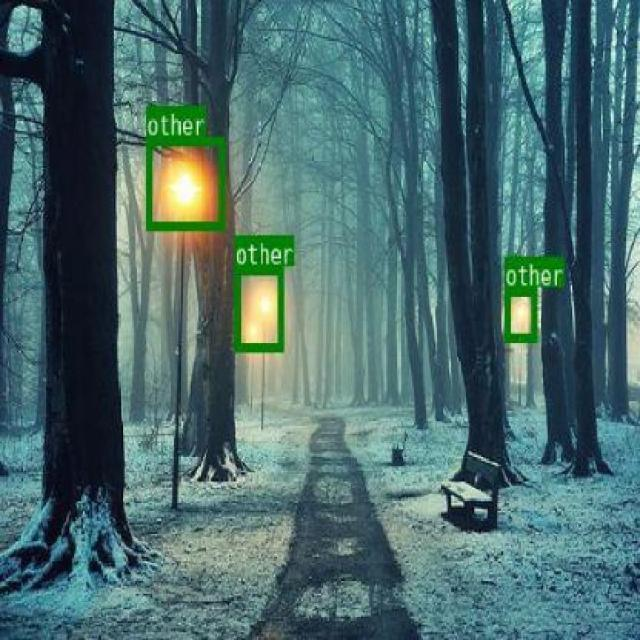other: (144, 136, 223, 229), (233, 264, 282, 350), (502, 286, 536, 340)
